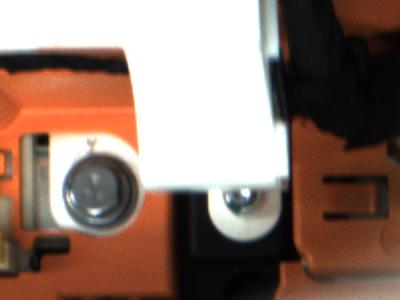nut_b: (58, 150, 140, 229)
